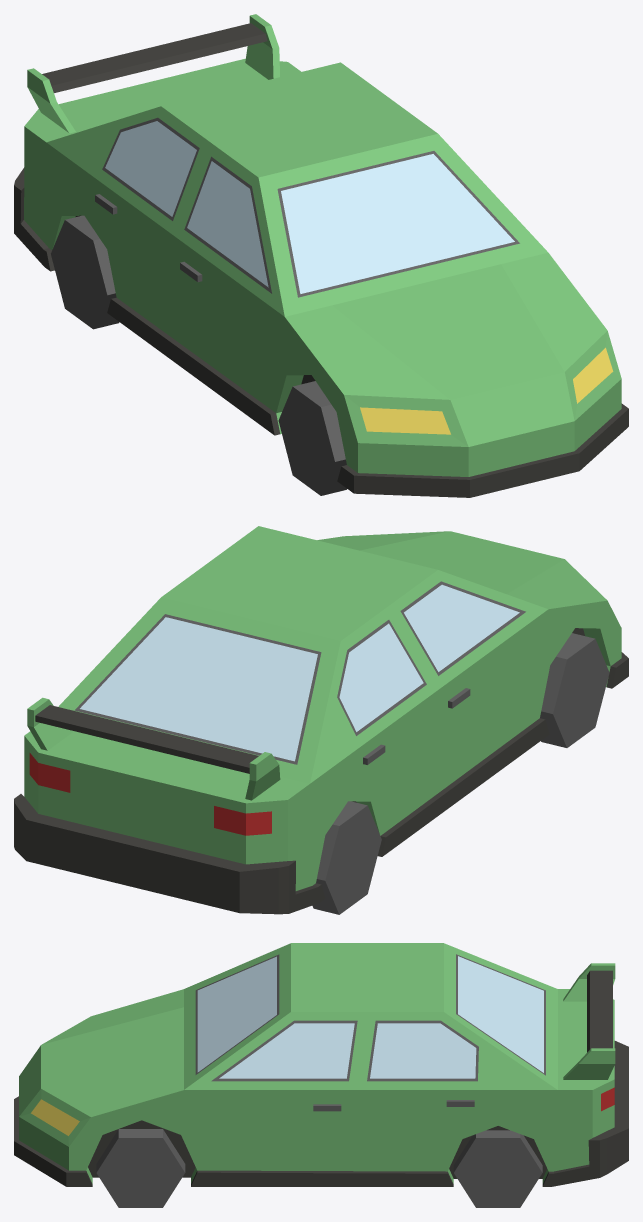
File: car.glb
The picture shows the model from 3 angles, top to bottom: view 1: azimuth 30°, elevation 25°; view 2: azimuth 150°, elevation 25°; view 3: azimuth 270°, elevation 25°; orthographic projection. The views are drawn at different scales.
Visible parts, largest first — view 1: Car_1_2_Mat_0; view 2: Car_1_2_Mat_0; view 3: Car_1_2_Mat_0.
Boxes of the visible parts, left/top/right/bottom form: Car_1_2_Mat_0: left=14, top=14, right=628, bottom=497; Car_1_2_Mat_0: left=14, top=526, right=628, bottom=914; Car_1_2_Mat_0: left=14, top=943, right=628, bottom=1207.
Size of the model in its own units: 0.0298 by 0.0235 by 0.0736.
Materials: 1 (1 with a texture image).
